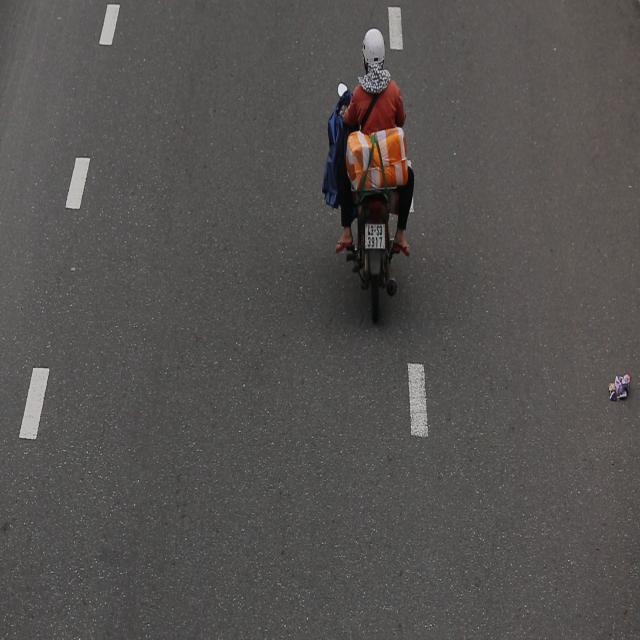motorbike: (320, 10, 427, 328)
